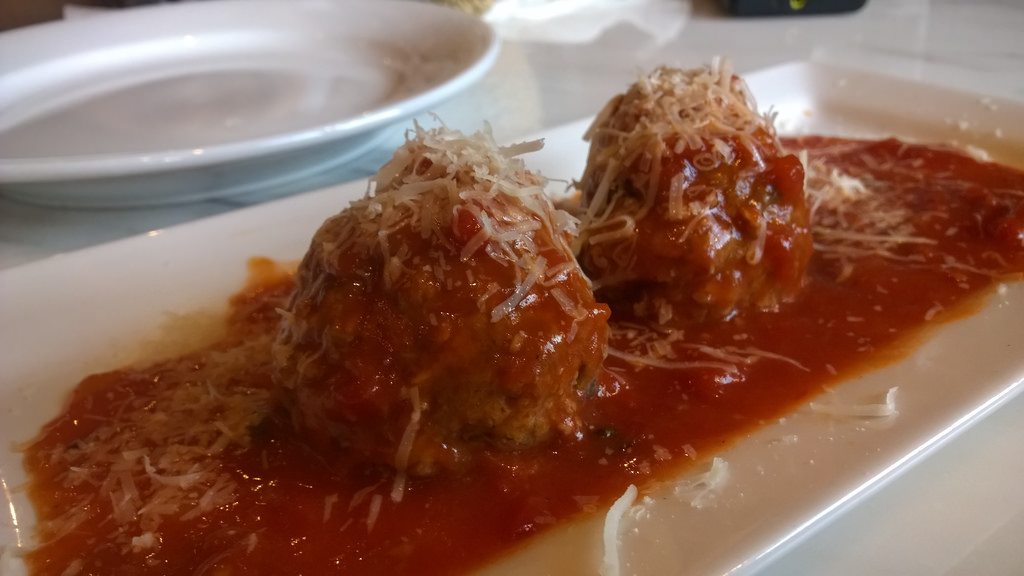meatballs: (270, 158, 616, 459), (582, 53, 821, 312)
